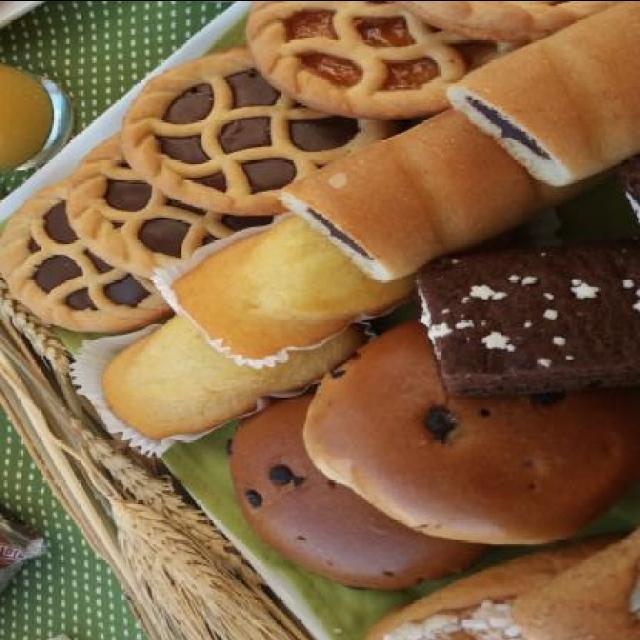Merendine packaged: (290, 86, 598, 280), (316, 388, 639, 544), (230, 398, 488, 590), (85, 290, 372, 459), (156, 199, 442, 363), (120, 42, 391, 214), (121, 42, 387, 208), (449, 5, 640, 197), (65, 128, 284, 282), (422, 248, 640, 397), (0, 175, 189, 333), (229, 2, 465, 112)
